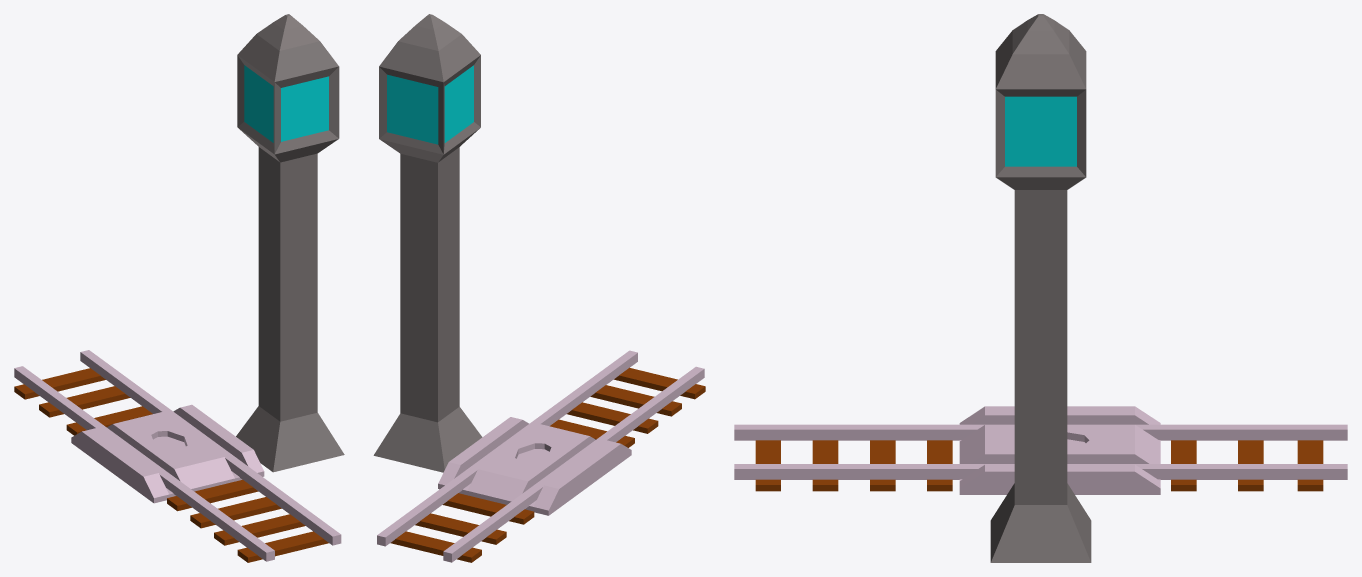
The model's file is checkPointRailsIndoor.fbx.
3 renders of one model, left to right at view 1: azimuth 30°, elevation 25°; view 2: azimuth 150°, elevation 25°; view 3: azimuth 270°, elevation 25°, orthographic. The views are drawn at different scales.
Visible parts, largest first — view 1: Cube.007, Cube.006, Cube.001, Cube, Cube.004, Cube.011, Cube.003, Cube.010, Cube.002, Cube.005, Cube.009; view 2: Cube.007, Cube.006, Cube.001, Cube, Cube.011, Cube.009, Cube.003, Cube.010, Cube.002, Cube.004, Cube.005; view 3: Cube.007, Cube.006, Cube, Cube.001, Cube.002, Cube.011, Cube.003, Cube.005, Cube.009, Cube.010, Cube.004.
Part boxes in pixels (x1=…): Cube.007: x1=236, y1=14, x2=344, y2=472; Cube.006: x1=71, y1=404, x2=264, y2=503; Cube.001: x1=80, y1=350, x2=341, y2=545; Cube: x1=14, y1=366, x2=274, y2=561; Cube.004: x1=237, y1=531, x2=328, y2=562; Cube.011: x1=14, y1=368, x2=105, y2=399; Cube.003: x1=190, y1=497, x2=281, y2=528; Cube.010: x1=39, y1=386, x2=130, y2=417; Cube.002: x1=214, y1=514, x2=305, y2=545; Cube.005: x1=167, y1=479, x2=258, y2=511; Cube.009: x1=66, y1=406, x2=152, y2=435; Cube.007: x1=373, y1=14, x2=482, y2=472; Cube.006: x1=438, y1=417, x2=631, y2=515; Cube.001: x1=377, y1=350, x2=637, y2=546; Cube: x1=443, y1=366, x2=704, y2=562; Cube.011: x1=390, y1=531, x2=481, y2=562; Cube.009: x1=443, y1=493, x2=534, y2=524; Cube.003: x1=567, y1=402, x2=658, y2=433; Cube.010: x1=415, y1=513, x2=506, y2=544; Cube.002: x1=590, y1=385, x2=681, y2=416; Cube.004: x1=614, y1=367, x2=705, y2=399; Cube.005: x1=550, y1=419, x2=634, y2=447; Cube.007: x1=990, y1=14, x2=1091, y2=562; Cube.006: x1=959, y1=406, x2=1160, y2=494; Cube: x1=734, y1=424, x2=1347, y2=440; Cube.001: x1=734, y1=464, x2=1347, y2=479; Cube.002: x1=812, y1=440, x2=838, y2=491; Cube.011: x1=1297, y1=440, x2=1323, y2=491; Cube.003: x1=870, y1=440, x2=895, y2=491; Cube.005: x1=927, y1=440, x2=952, y2=491; Cube.009: x1=1171, y1=440, x2=1196, y2=491; Cube.010: x1=1238, y1=440, x2=1263, y2=491; Cube.004: x1=755, y1=440, x2=780, y2=491.
Bounding box in the file's own units: 2232 × 4540 × 4789.
